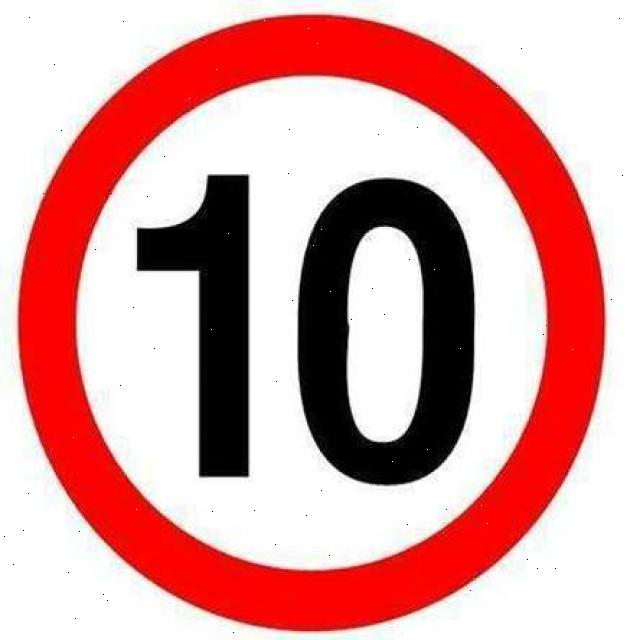speed limit 10: (14, 16, 604, 630)
